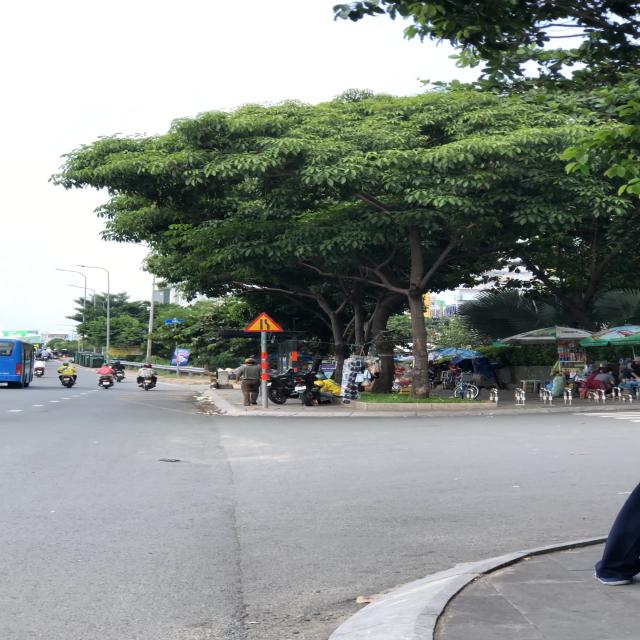Bien bao duong bi thu hep: (241, 311, 287, 332)
